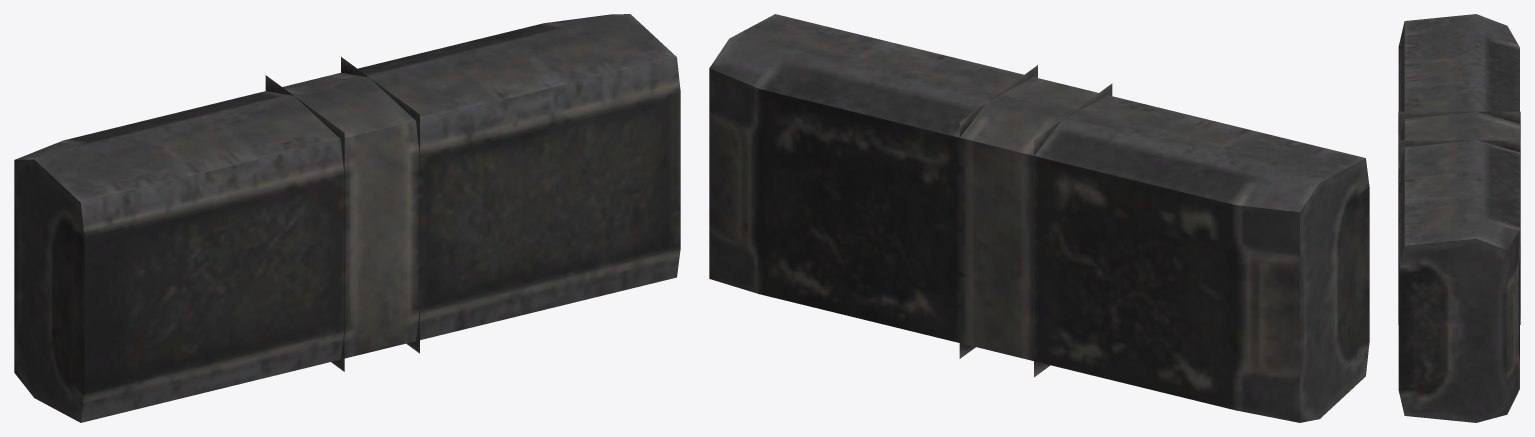
3 renders of one model, left to right at view 1: azimuth 30°, elevation 25°; view 2: azimuth 150°, elevation 25°; view 3: azimuth 270°, elevation 25°, orthographic. The views are drawn at different scales.
Parts seen in each view (by area): view 1: set_0_group_0; view 2: set_0_group_0; view 3: set_0_group_0.
Part boxes in pixels (<box>): set_0_group_0: <box>14,14,680,422</box>; set_0_group_0: <box>709,14,1369,422</box>; set_0_group_0: <box>1398,14,1520,422</box>.
Size of the model in its own units: 0.3596 by 0.1379 by 0.0826.
Materials: 1 (1 with a texture image).
